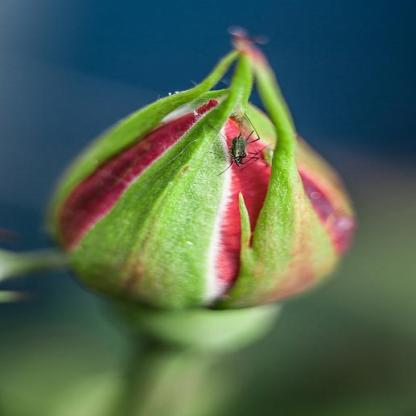aphid: (212, 122, 272, 167)
